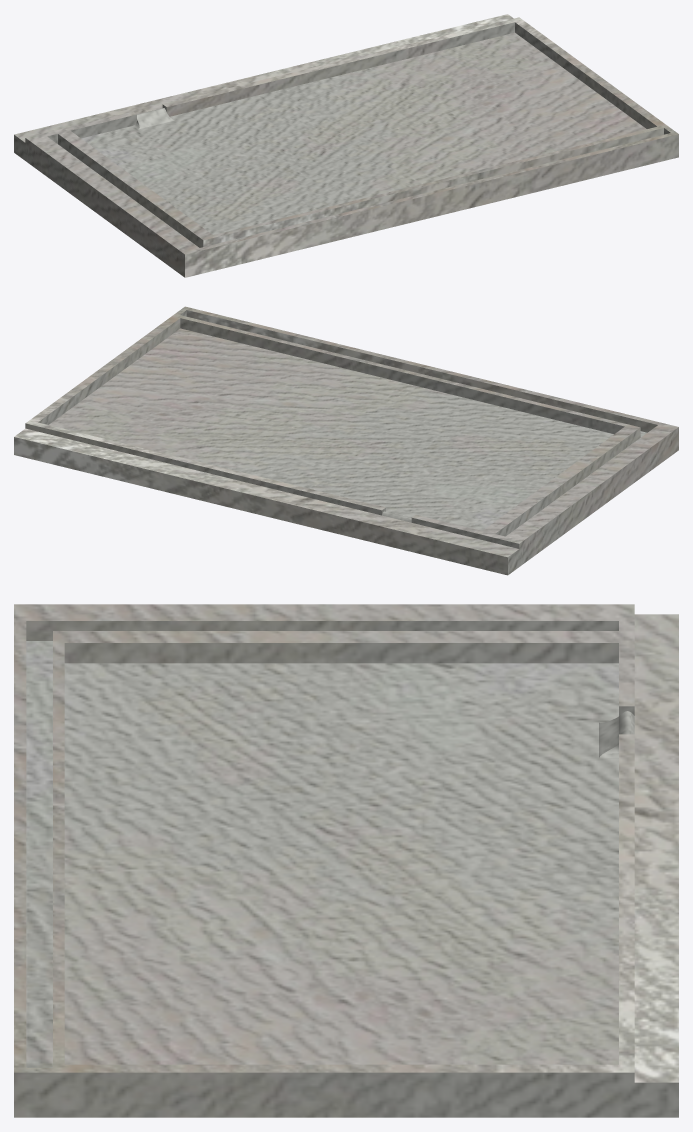
File: world.glb
3 views of the same model, one above another, from view 1: azimuth 30°, elevation 25°; view 2: azimuth 150°, elevation 25°; view 3: azimuth 270°, elevation 25° (orthographic). The views are drawn at different scales.
Parts seen in each view (by area): view 1: slat_mine1; view 2: slat_mine1; view 3: slat_mine1.
Part boxes in pixels (bbox=[...]): slat_mine1: bbox=[14, 14, 678, 277]; slat_mine1: bbox=[14, 306, 678, 575]; slat_mine1: bbox=[14, 604, 678, 1117].
Bounding box in the file's own units: 1000 × 45 × 600.
Materials: 1 (1 with a texture image).
